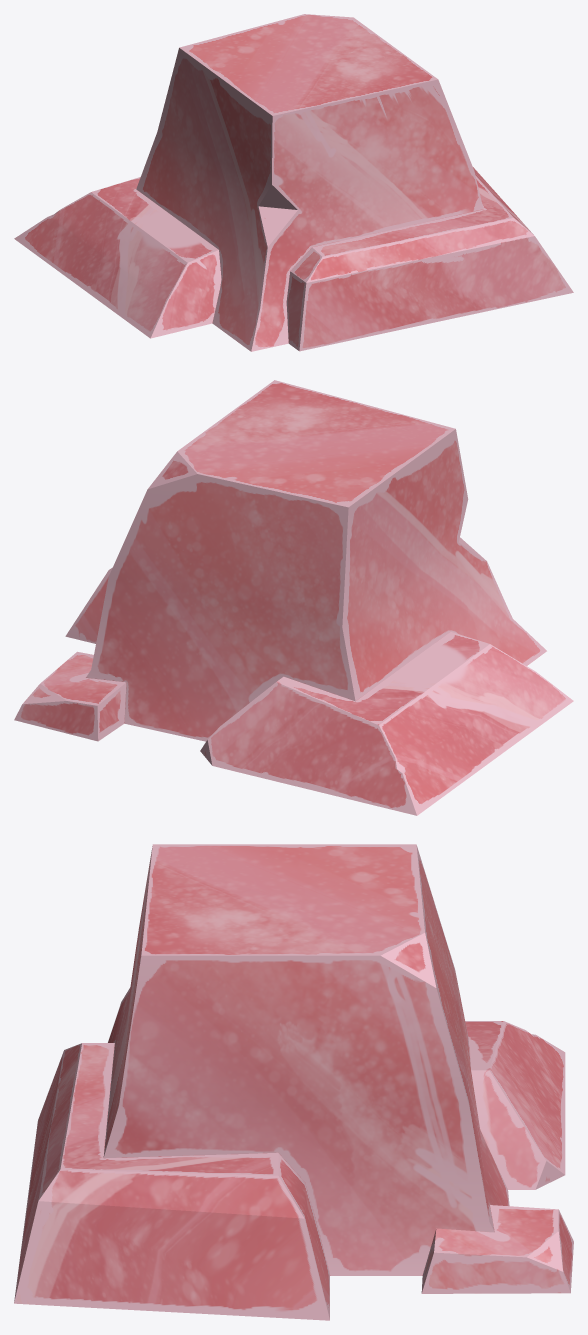
Rendered from saltRock 1.fbx.
3 renders of one model, top to bottom at view 1: azimuth 30°, elevation 25°; view 2: azimuth 150°, elevation 25°; view 3: azimuth 270°, elevation 25°, orthographic. The views are drawn at different scales.
Parts seen in each view (by area): view 1: SaltRock; view 2: SaltRock; view 3: SaltRock.
Part boxes in pixels (x1,y1,x2,y2): SaltRock: [14, 14, 573, 351]; SaltRock: [14, 380, 573, 815]; SaltRock: [14, 844, 573, 1320].
Size of the model in its own units: 397 by 198 by 350.
